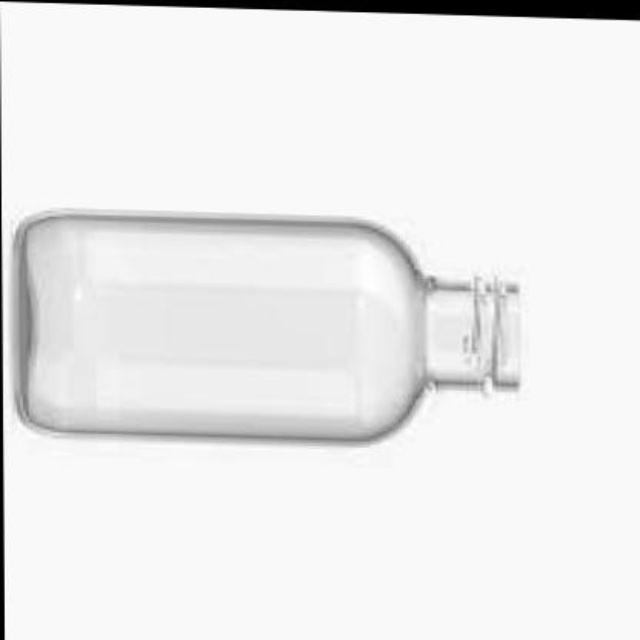trash: (17, 214, 520, 438)
